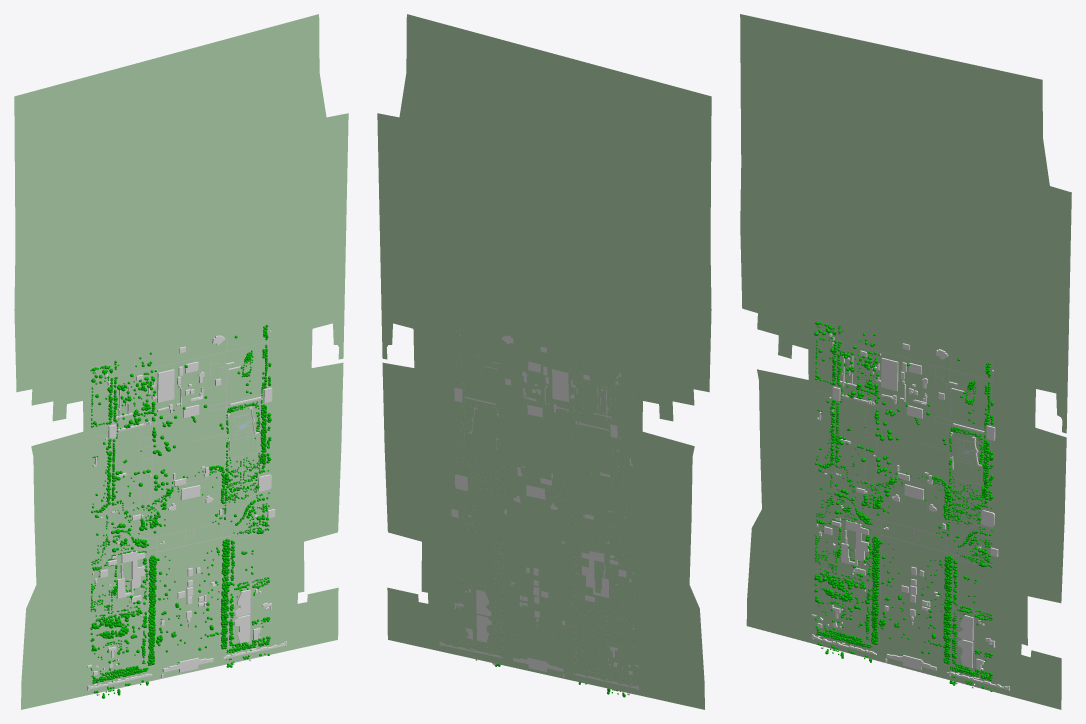
3 views of the same model, side by side, from view 1: azimuth 30°, elevation 25°; view 2: azimuth 150°, elevation 25°; view 3: azimuth 330°, elevation 25° (orthographic).
Parts seen in each view (by area): view 1: TPX_GreenAreas, TPX_Buildings, TPX_RoadsOutlines; view 2: TPX_GreenAreas, TPX_Buildings; view 3: TPX_GreenAreas, TPX_Buildings, TPX_RoadsOutlines.
Part boxes in pixels (bbox=[...]): TPX_GreenAreas: bbox=[14, 14, 348, 709]; TPX_Buildings: bbox=[87, 330, 286, 695]; TPX_RoadsOutlines: bbox=[90, 323, 269, 694]; TPX_GreenAreas: bbox=[377, 14, 711, 709]; TPX_Buildings: bbox=[439, 330, 638, 695]; TPX_GreenAreas: bbox=[740, 14, 1071, 709]; TPX_Buildings: bbox=[811, 333, 1009, 690]; TPX_RoadsOutlines: bbox=[816, 320, 992, 690].
Size of the model in its own units: 1425 by 2575 by 23.
